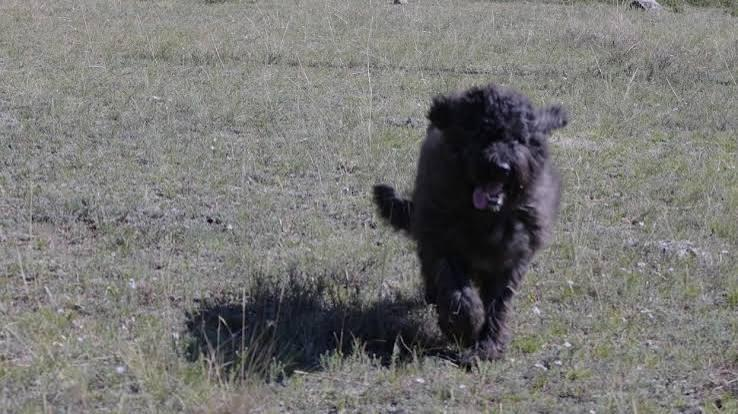adult_dog: (369, 84, 572, 369)
